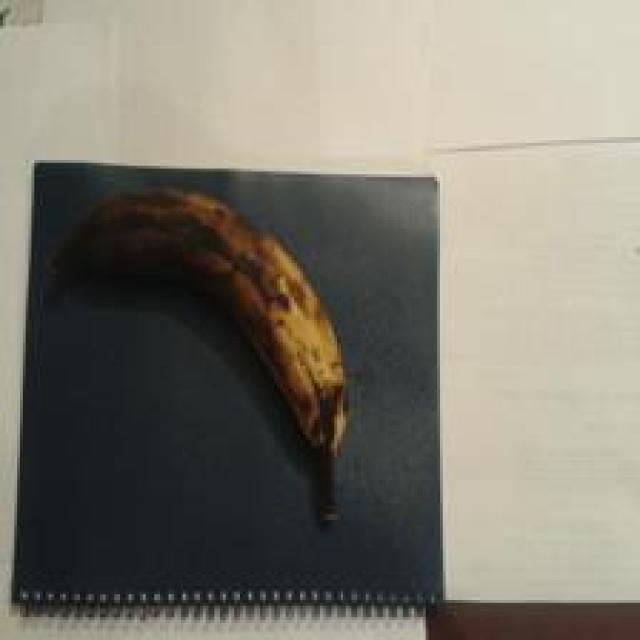Rotten_Banana: (111, 173, 378, 517)
